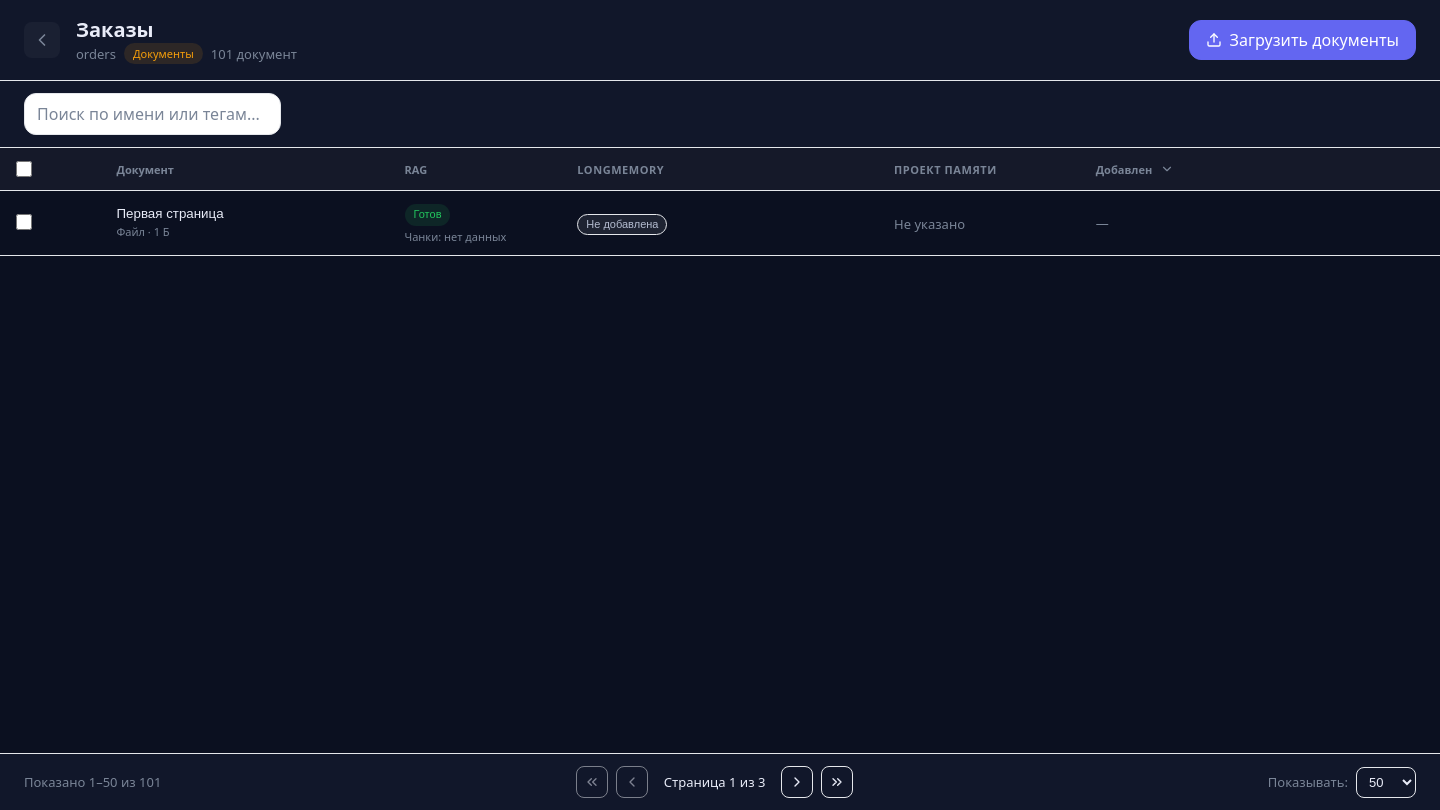
Test: keeps the selected document page while its request is pending
Expected: the button "Первая страница" is shown, left=116, top=206, right=380, bottom=221
Click the button named "Следующая страница".
click(797, 782)  # box left=781, top=766, right=813, bottom=798
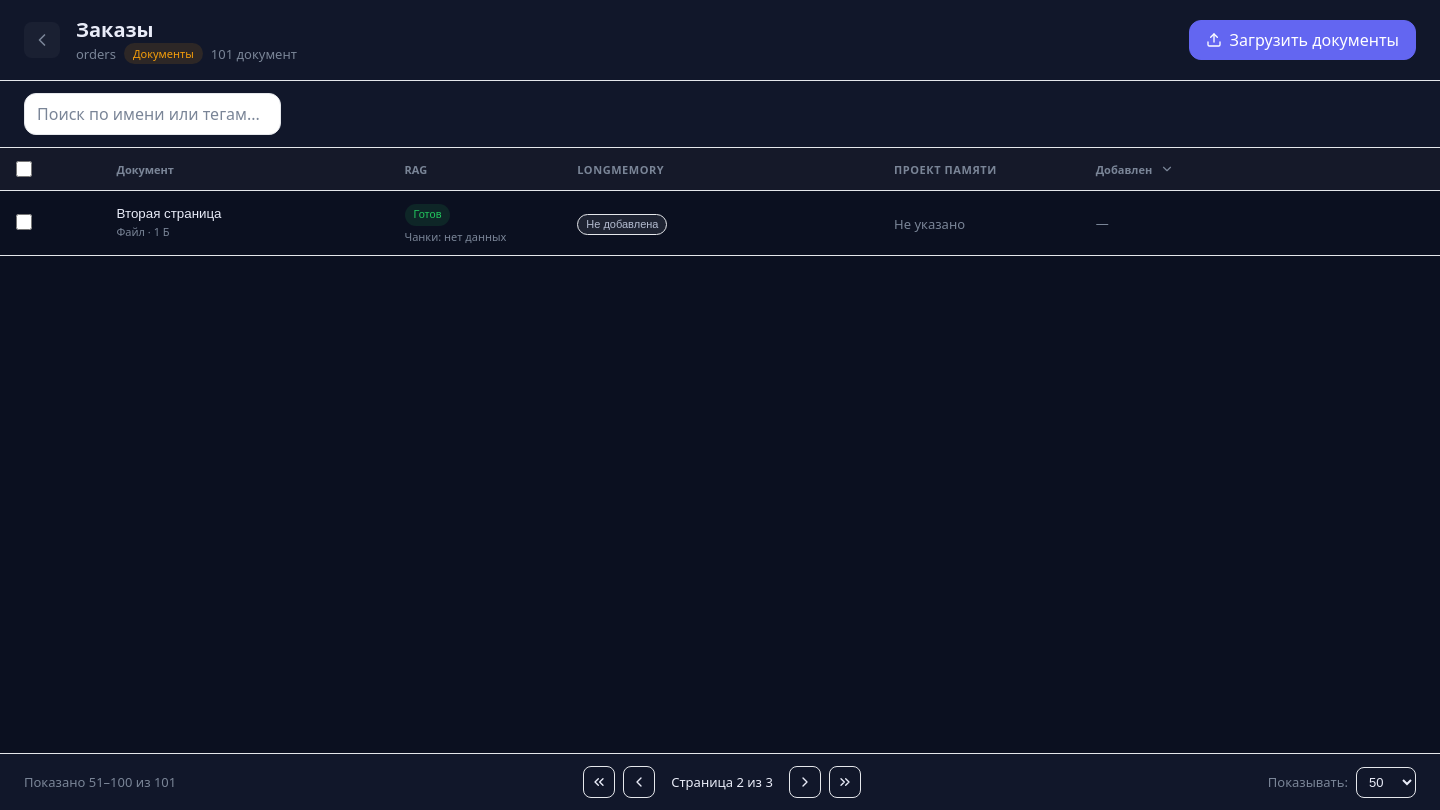
Result: the button "Вторая страница" is shown at left=116, top=206, right=380, bottom=221
Result: the text "Страница 2 из 3" is shown at left=671, top=773, right=773, bottom=791
